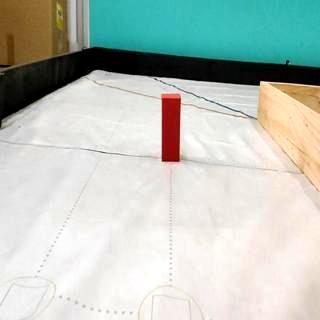redbox: (161, 92, 181, 163)
